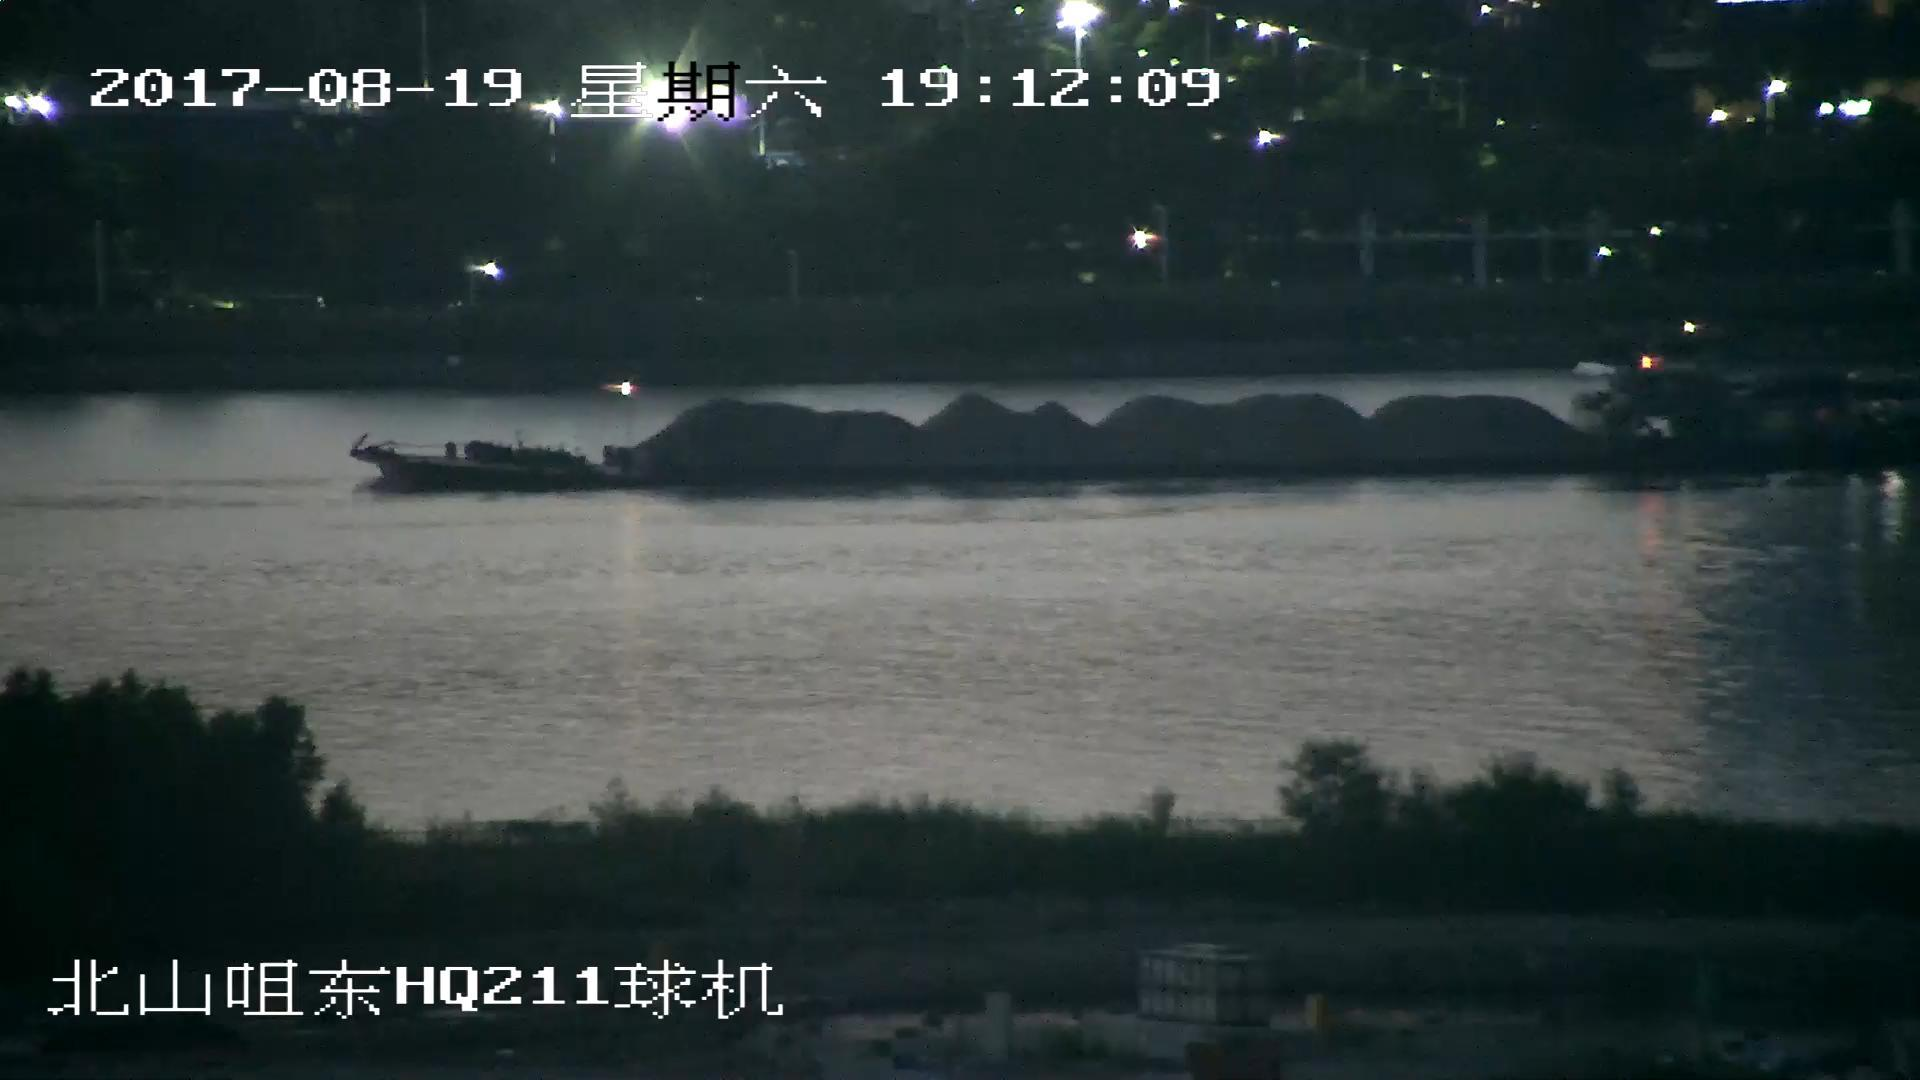Ship: (353, 365, 1920, 504)
